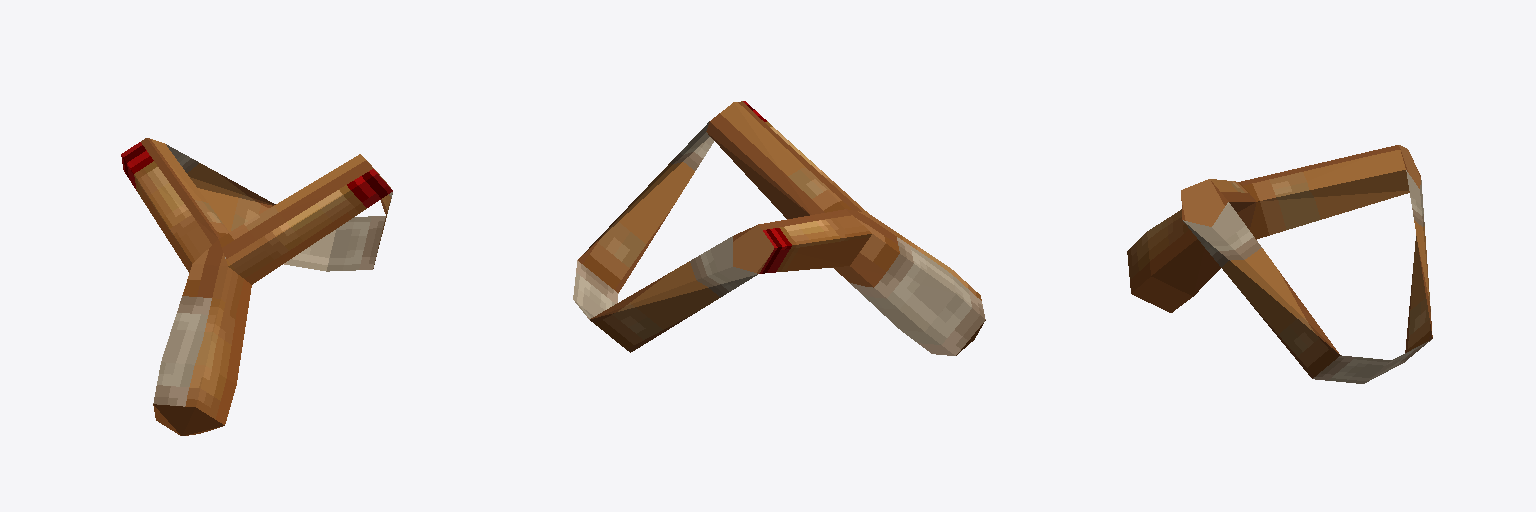
The picture shows the model from 3 angles: view 1: azimuth 30°, elevation 25°; view 2: azimuth 150°, elevation 25°; view 3: azimuth 270°, elevation 25°; orthographic projection.
Visible parts, largest first — view 1: vsn_mesh_0__mesh_0_.007; view 2: vsn_mesh_0__mesh_0_.007; view 3: vsn_mesh_0__mesh_0_.007.
Part boxes in pixels (left/top/right/bottom): vsn_mesh_0__mesh_0_.007: left=121, top=138, right=392, bottom=435; vsn_mesh_0__mesh_0_.007: left=573, top=101, right=985, bottom=355; vsn_mesh_0__mesh_0_.007: left=1127, top=145, right=1432, bottom=383.
Size of the model in its own units: 15.59 by 10.33 by 12.87.
Materials: 1 (1 with a texture image).